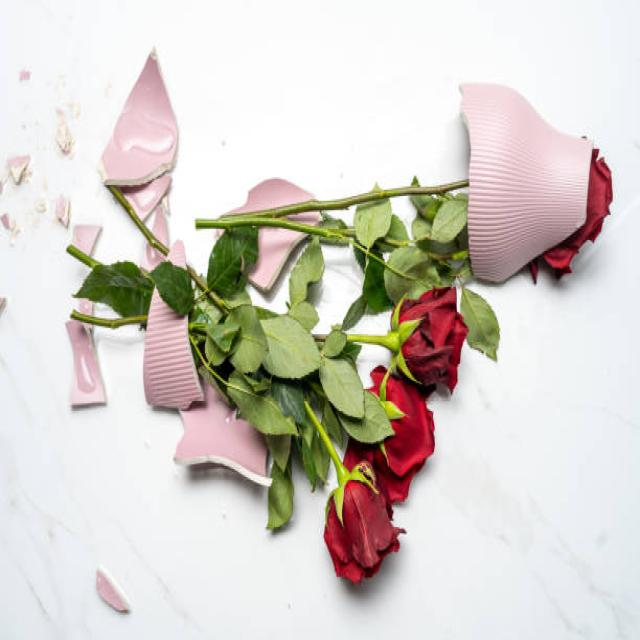paper: (320, 279, 486, 593), (213, 299, 271, 384), (273, 314, 316, 390)
